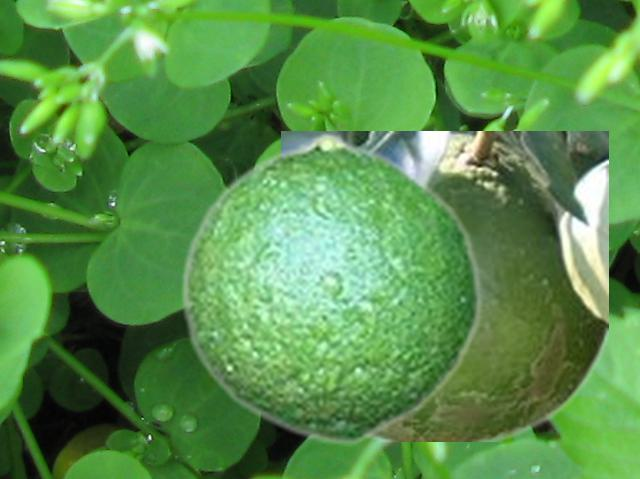dalandan: (281, 131, 607, 440), (178, 131, 482, 445)
